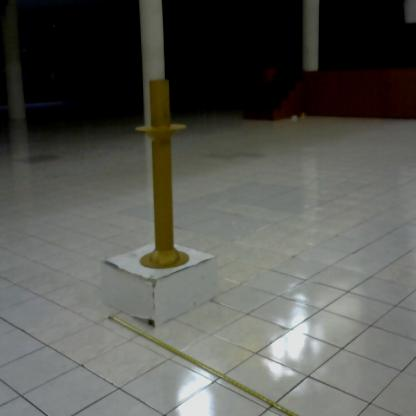pole: (131, 72, 193, 276)
